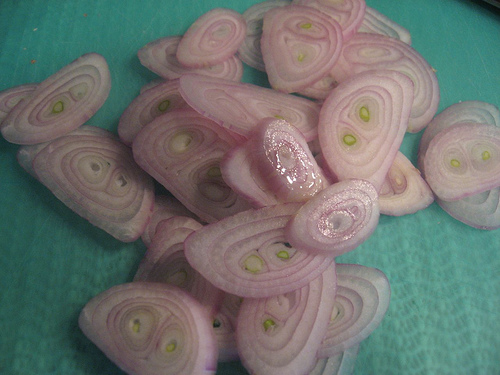onion: (0, 0, 498, 374)
